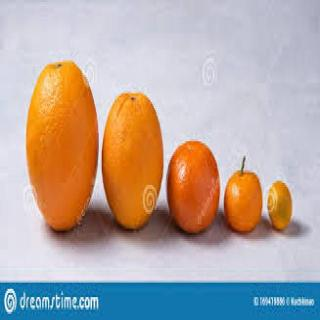orange: (30, 53, 100, 254), (101, 74, 163, 260), (164, 136, 224, 258), (225, 160, 267, 259), (268, 176, 292, 250)
